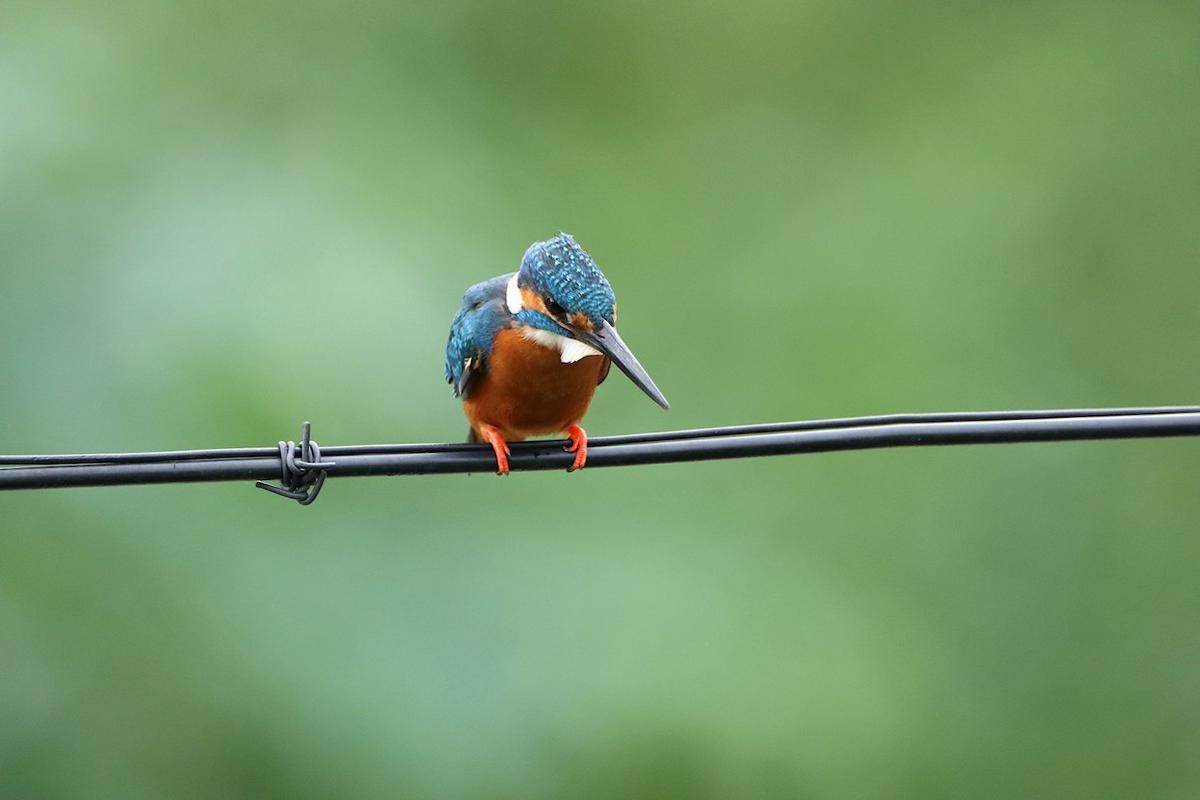kingfisher: (391, 224, 688, 479)
